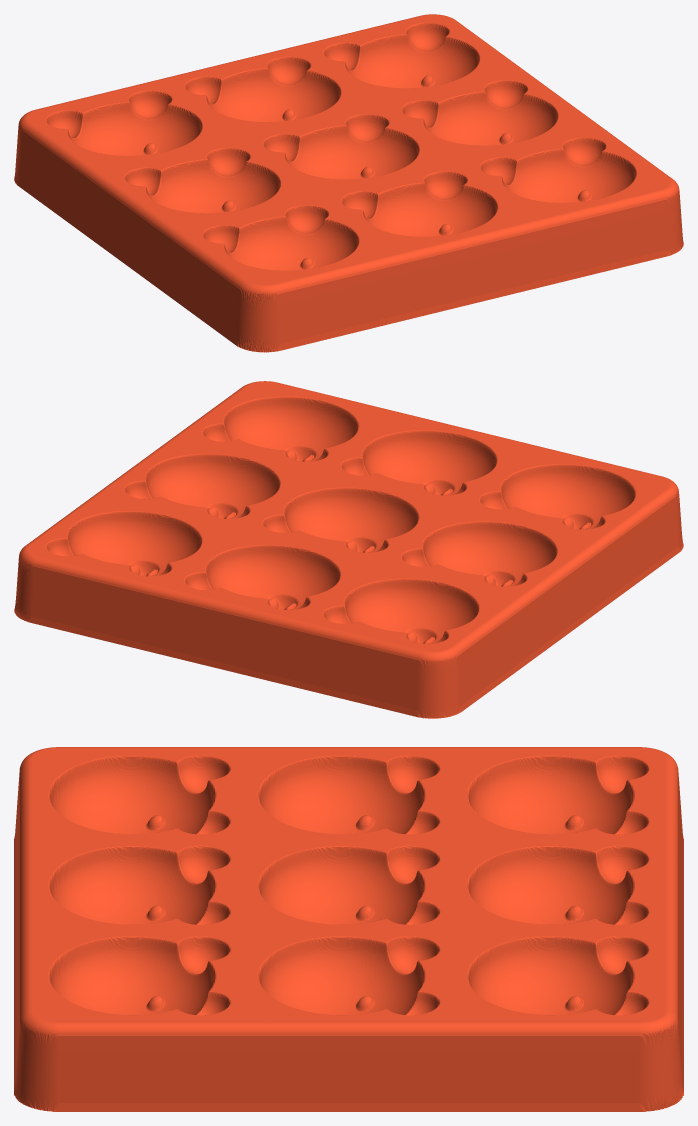
The model's file is mold.glb.
The picture shows the model from 3 angles, top to bottom: view 1: azimuth 30°, elevation 25°; view 2: azimuth 150°, elevation 25°; view 3: azimuth 270°, elevation 25°; orthographic projection. The views are drawn at different scales.
Parts seen in each view (by area): view 1: geometry_0; view 2: geometry_0; view 3: geometry_0.
Boxes of the visible parts, x1,y1,x2,y2 form: geometry_0: [14, 14, 683, 352]; geometry_0: [14, 381, 683, 718]; geometry_0: [14, 747, 683, 1111].
Bounding box in the file's own units: 0.1373 × 0.0182 × 0.1345.
